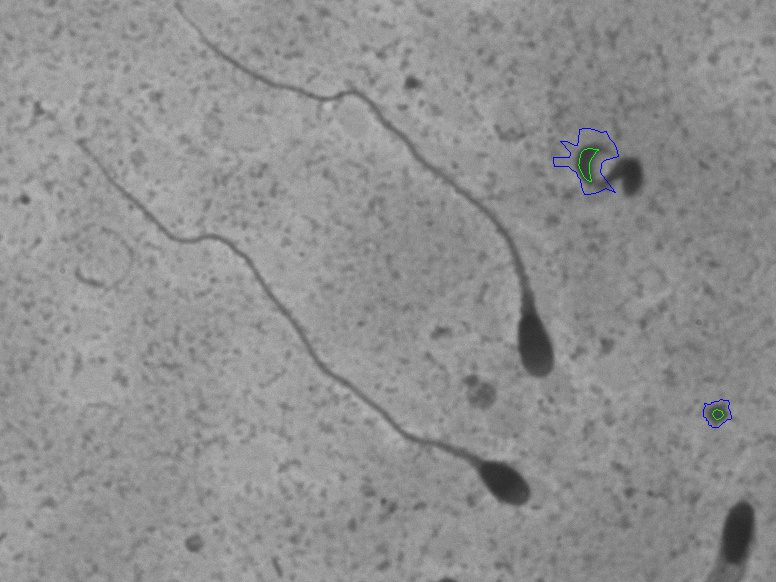Abnormal: (170, 9, 564, 395)
Normal: (49, 110, 556, 527)
